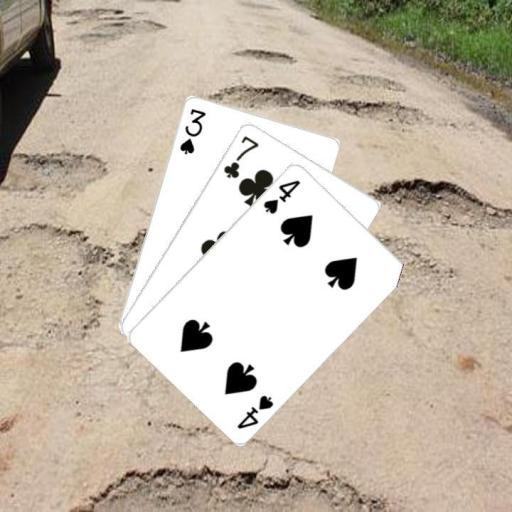3S: (176, 105, 207, 156)
4S: (261, 177, 302, 216), (234, 391, 275, 430)
7C: (220, 132, 260, 180)
